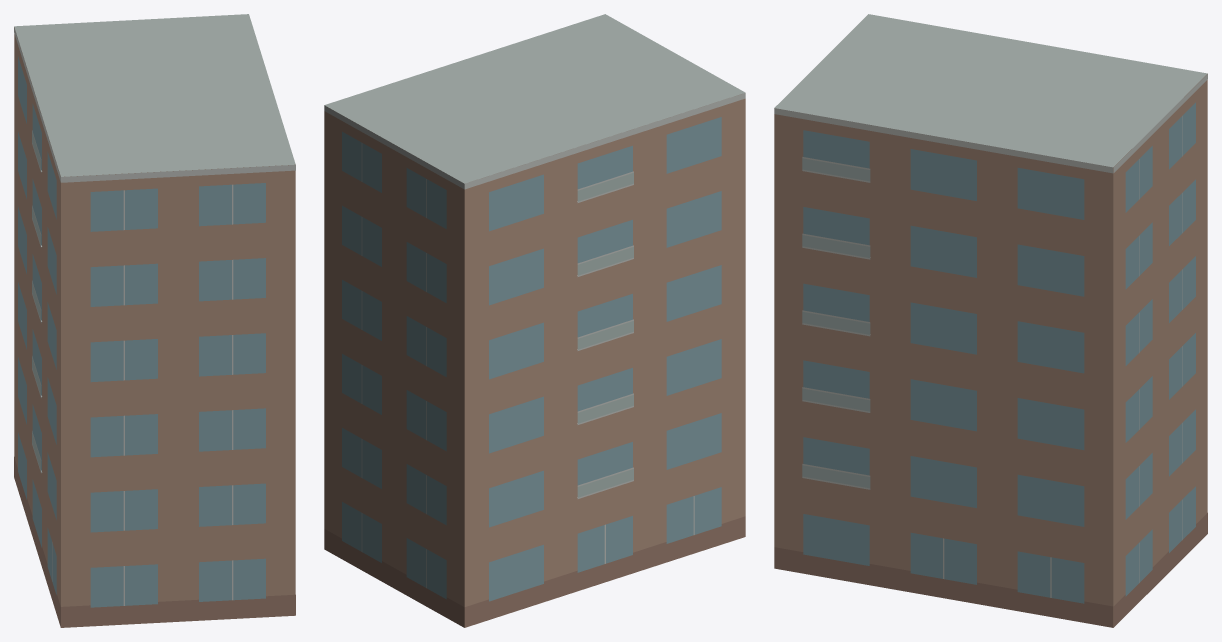
File: survey-upis-32970808.glb
The picture shows the model from 3 angles, left to right: view 1: azimuth 30°, elevation 25°; view 2: azimuth 150°, elevation 25°; view 3: azimuth 270°, elevation 25°; orthographic projection. The views are drawn at different scales.
Parts seen in each view (by area): view 1: survey-upis-32970808.tmp; view 2: survey-upis-32970808.tmp; view 3: survey-upis-32970808.tmp.
Boxes of the visible parts, left/top/right/bottom form: survey-upis-32970808.tmp: left=14, top=14, right=295, bottom=627; survey-upis-32970808.tmp: left=324, top=14, right=745, bottom=627; survey-upis-32970808.tmp: left=774, top=14, right=1207, bottom=627.
Size of the model in its own units: 13.37 by 18.7 by 15.97.
